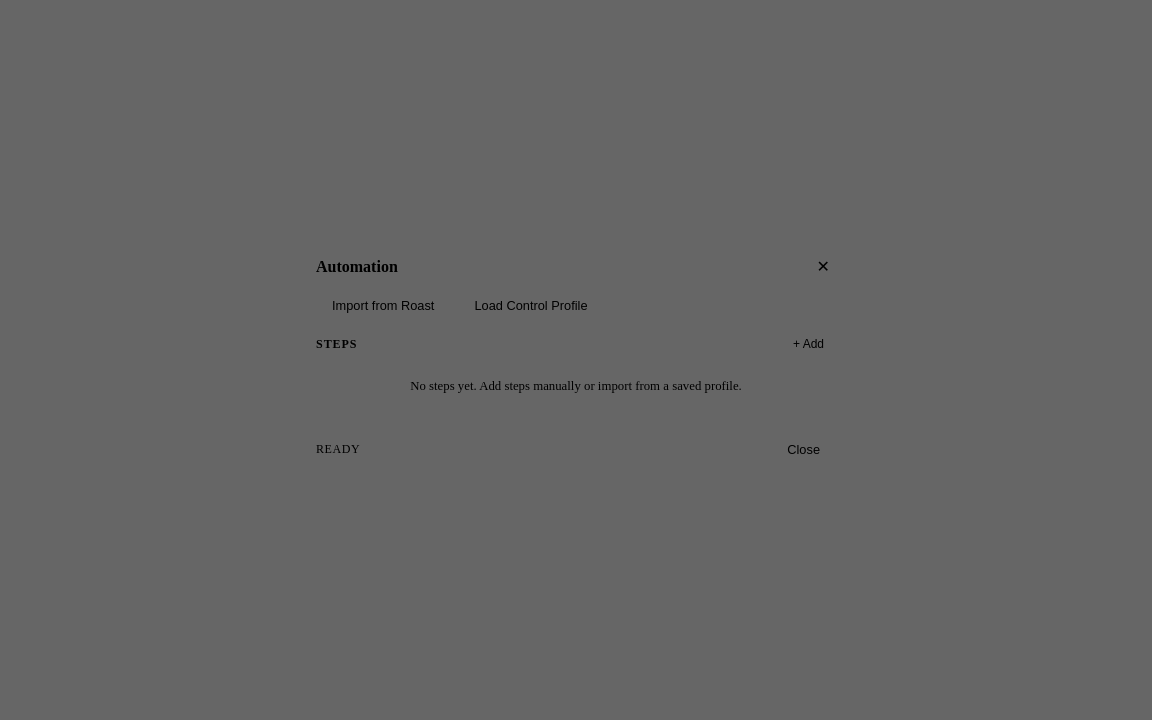
Test: SchedulerDialog › shows + Add button and opens form on click
Click the button "+ Add": {"x": 808, "y": 344} [781, 333, 836, 355]
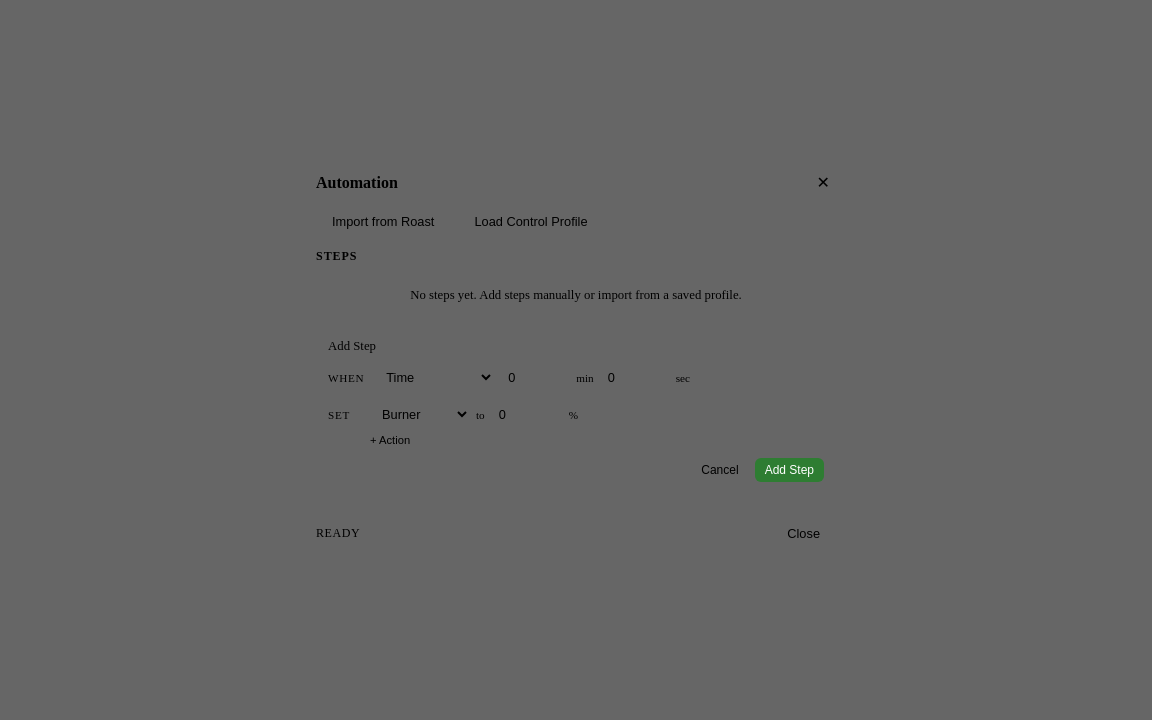
expect the heading "Add Step" is shown: met, box [328, 339, 376, 353]
